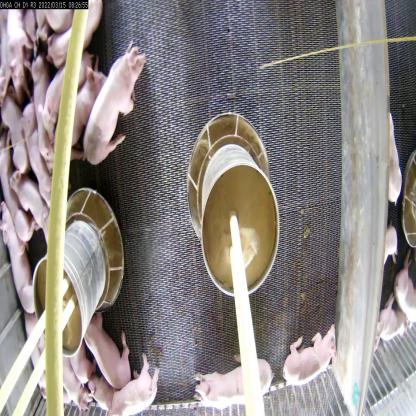Pig: (82, 40, 150, 170), (41, 47, 96, 138), (51, 68, 108, 152), (195, 357, 273, 416), (83, 298, 133, 390), (1, 195, 36, 318), (17, 103, 52, 209), (277, 325, 336, 384), (108, 356, 164, 416), (9, 173, 50, 239), (48, 354, 90, 416)
